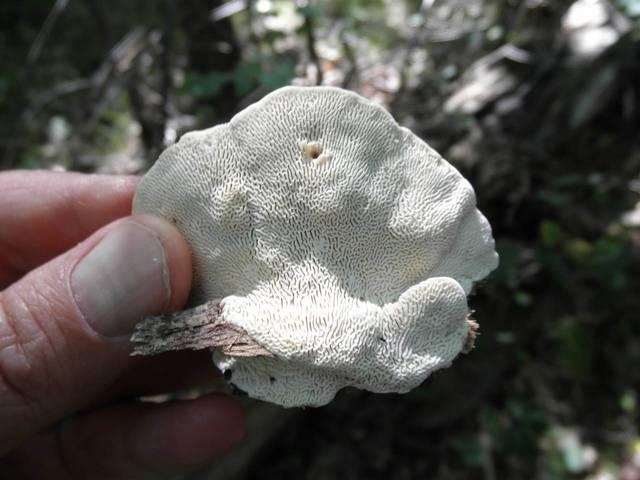poisonous_mushroom: (127, 83, 500, 410)
